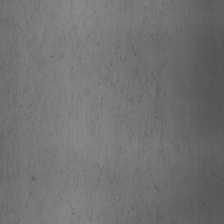silk_spot: (62, 43, 184, 201)
